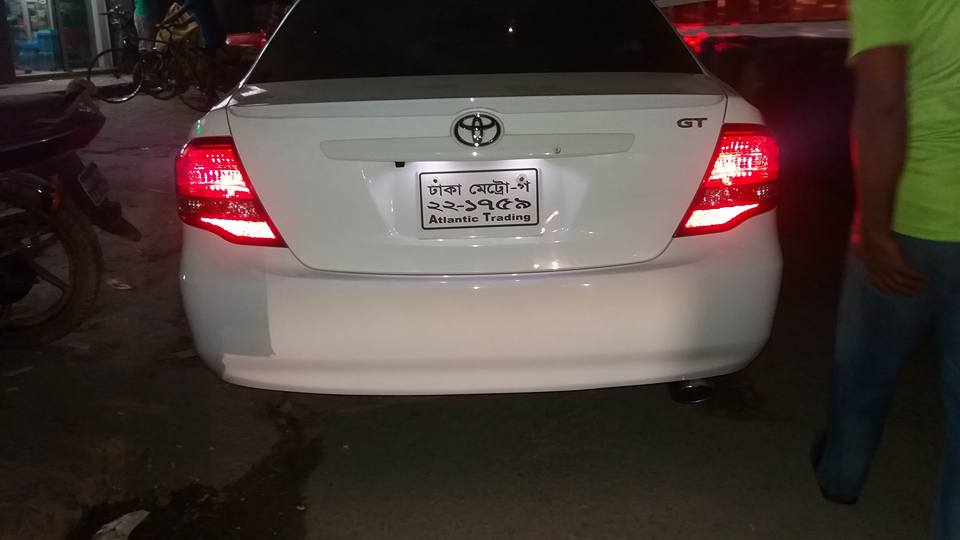registration_plate: (419, 166, 541, 230)
